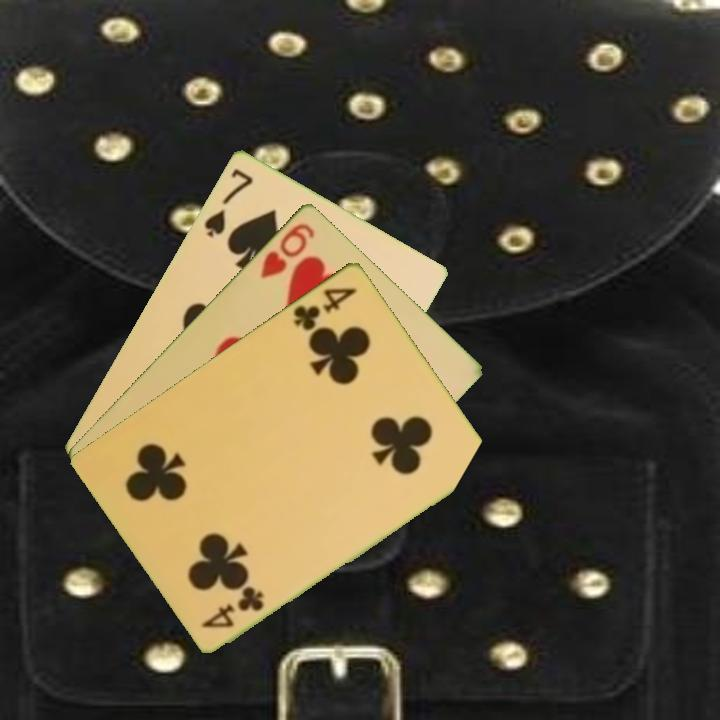4c: (289, 283, 360, 334), (198, 584, 267, 631)
6h: (256, 219, 318, 281)
7s: (200, 164, 256, 240)
